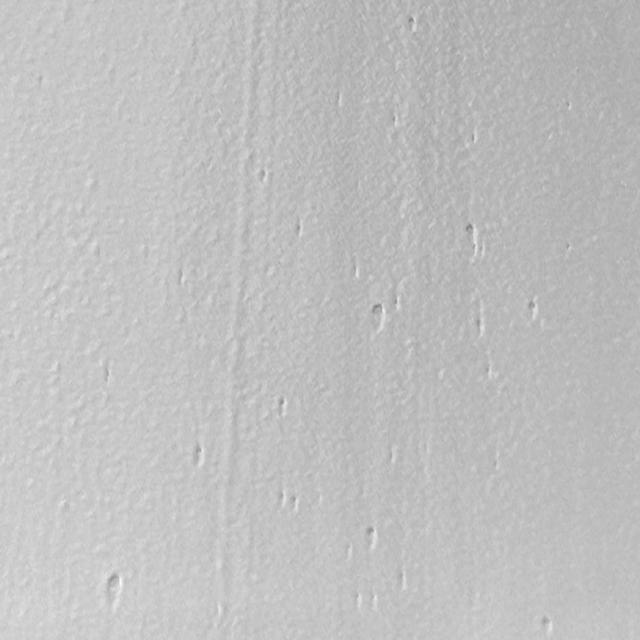pin holes: (103, 570, 126, 608), (459, 222, 481, 256), (366, 303, 386, 333), (360, 526, 380, 554), (524, 297, 544, 325), (97, 357, 117, 385), (188, 443, 208, 470), (536, 614, 558, 638), (393, 566, 412, 593), (273, 393, 290, 419), (472, 312, 488, 339), (273, 489, 290, 512), (255, 166, 272, 188), (350, 259, 366, 282), (350, 589, 364, 612), (404, 16, 420, 35), (288, 494, 302, 515), (342, 540, 354, 564), (293, 222, 306, 242), (368, 591, 381, 611), (390, 113, 402, 130), (336, 91, 342, 107), (389, 449, 395, 462), (493, 457, 499, 470), (394, 296, 400, 308), (471, 133, 477, 144), (486, 363, 490, 379), (567, 242, 571, 252)
